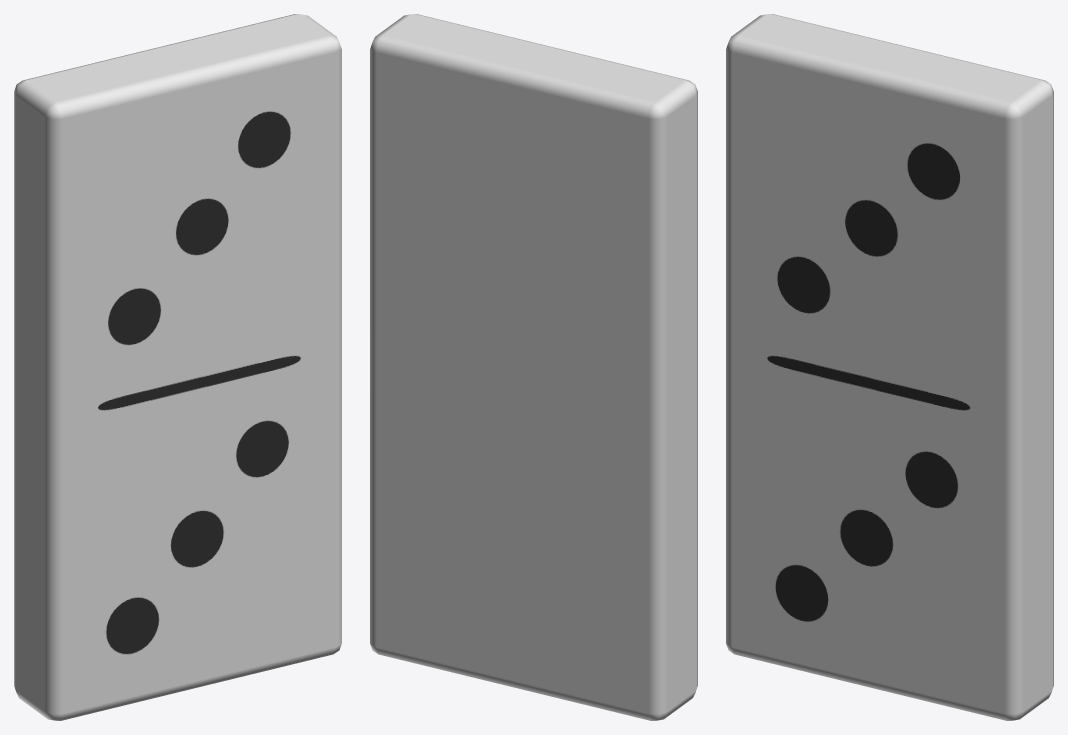
3 views of the same model, side by side, from view 1: azimuth 30°, elevation 25°; view 2: azimuth 150°, elevation 25°; view 3: azimuth 330°, elevation 25° (orthographic).
Parts seen in each view (by area): view 1: Low; view 2: Low; view 3: Low.
Boxes of the visible parts, <box> form: Low: <box>14,14,341,720</box>; Low: <box>370,14,697,720</box>; Low: <box>726,14,1053,720</box>.
Size of the model in its own units: 0.0254 by 0.0508 by 0.00635.
1 material, 1 textured.
